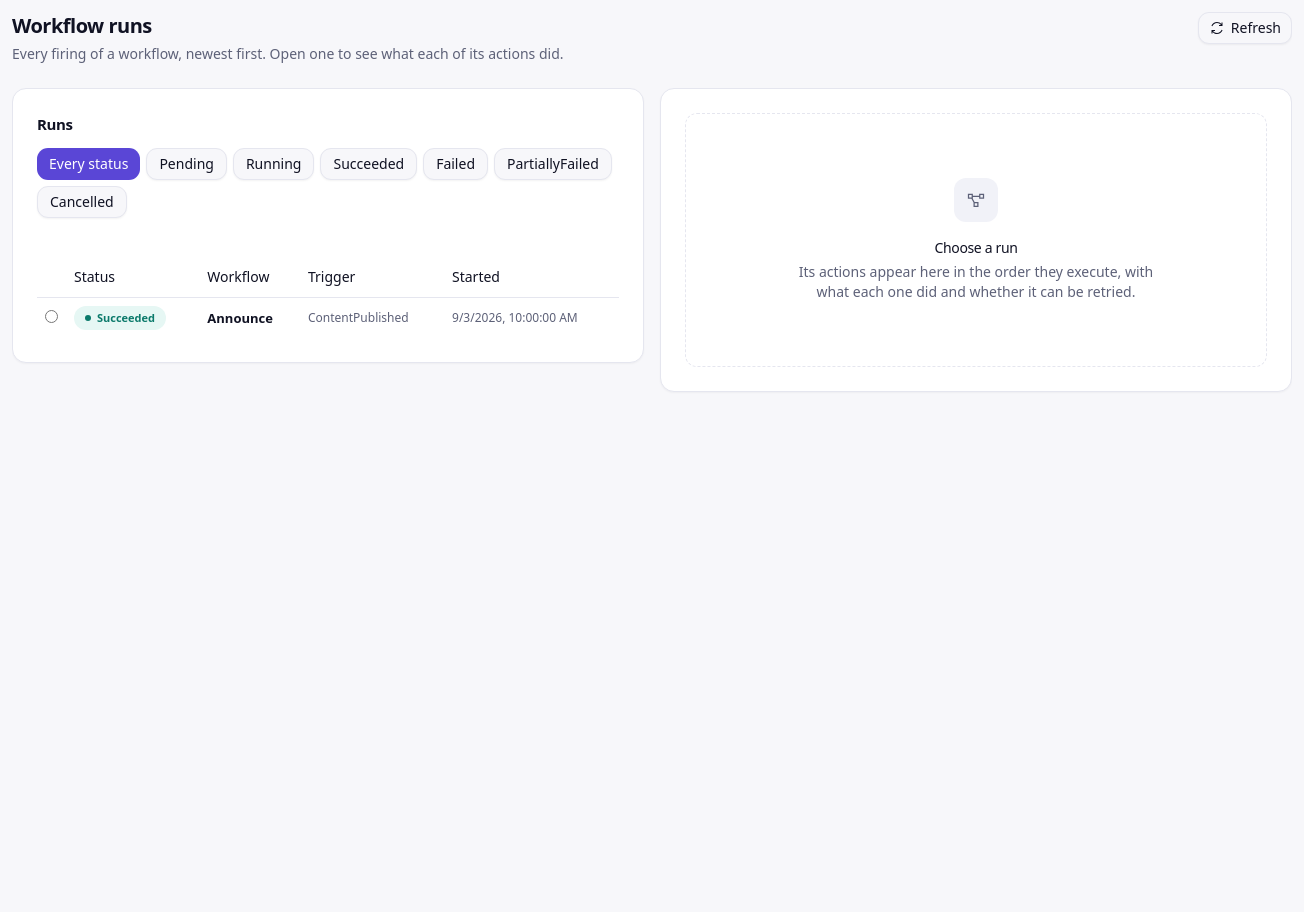
Test case: the attempt history in the panel › lists three tries of an action in the order the API sent them
This screenshot has width=1304, height=912.
Click the radio button named "Announce": [52, 316] box left=45, top=310, right=58, bottom=323
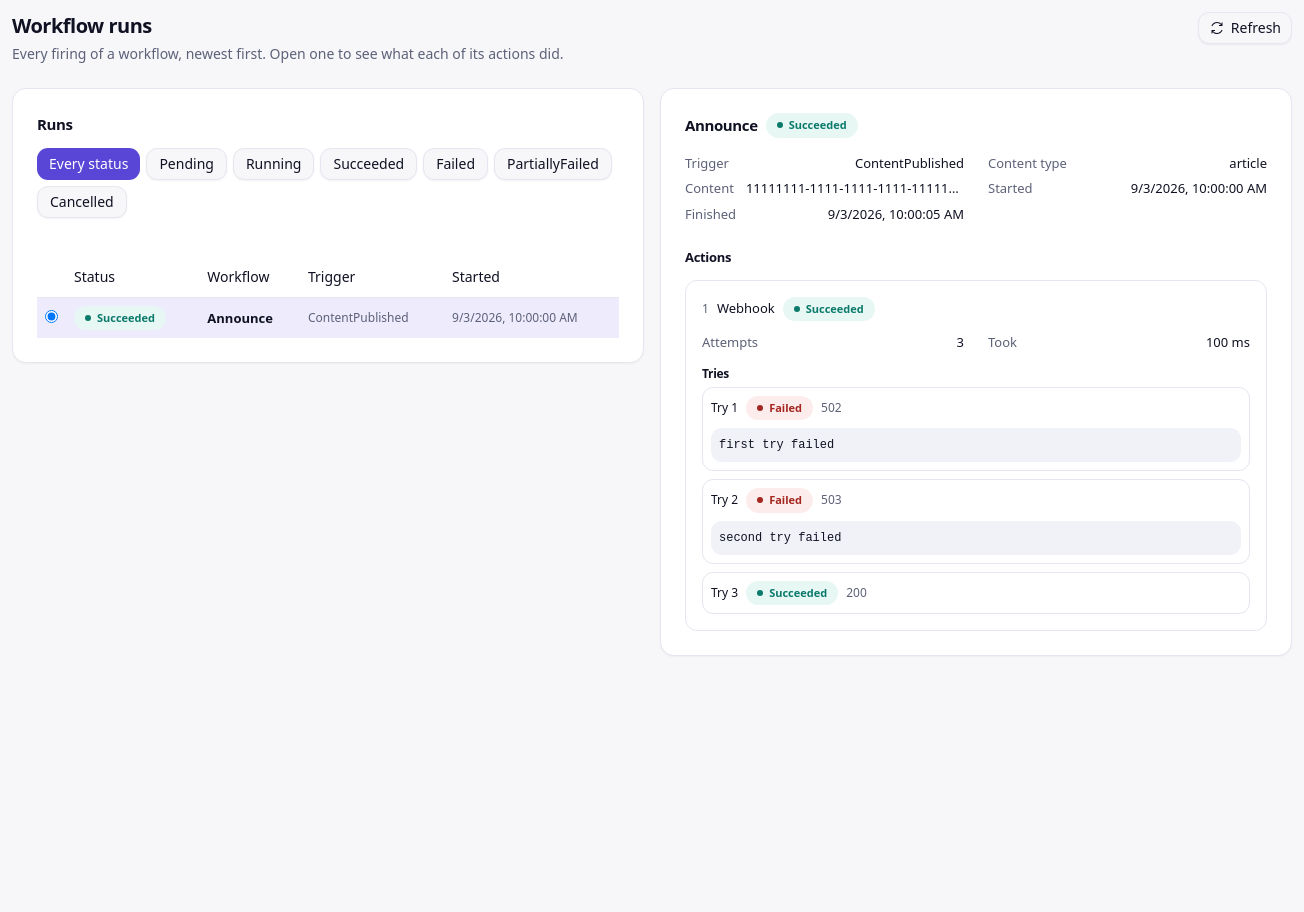
expect the list item "Try 1 Failed 502 first try failed" is shown: met, box left=702, top=386, right=1250, bottom=471
expect the list item "Try 2 Failed 503 second try failed" is shown: met, box left=702, top=479, right=1250, bottom=564
expect the list item "Try 3 Succeeded 200" is shown: met, box left=702, top=572, right=1250, bottom=614
